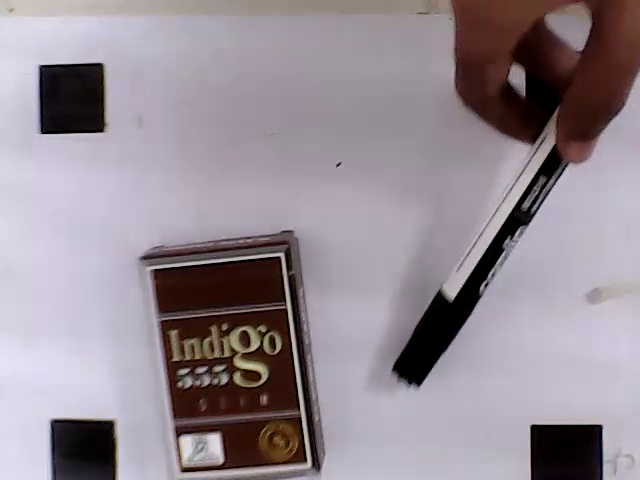BEX: (148, 255, 309, 475)
